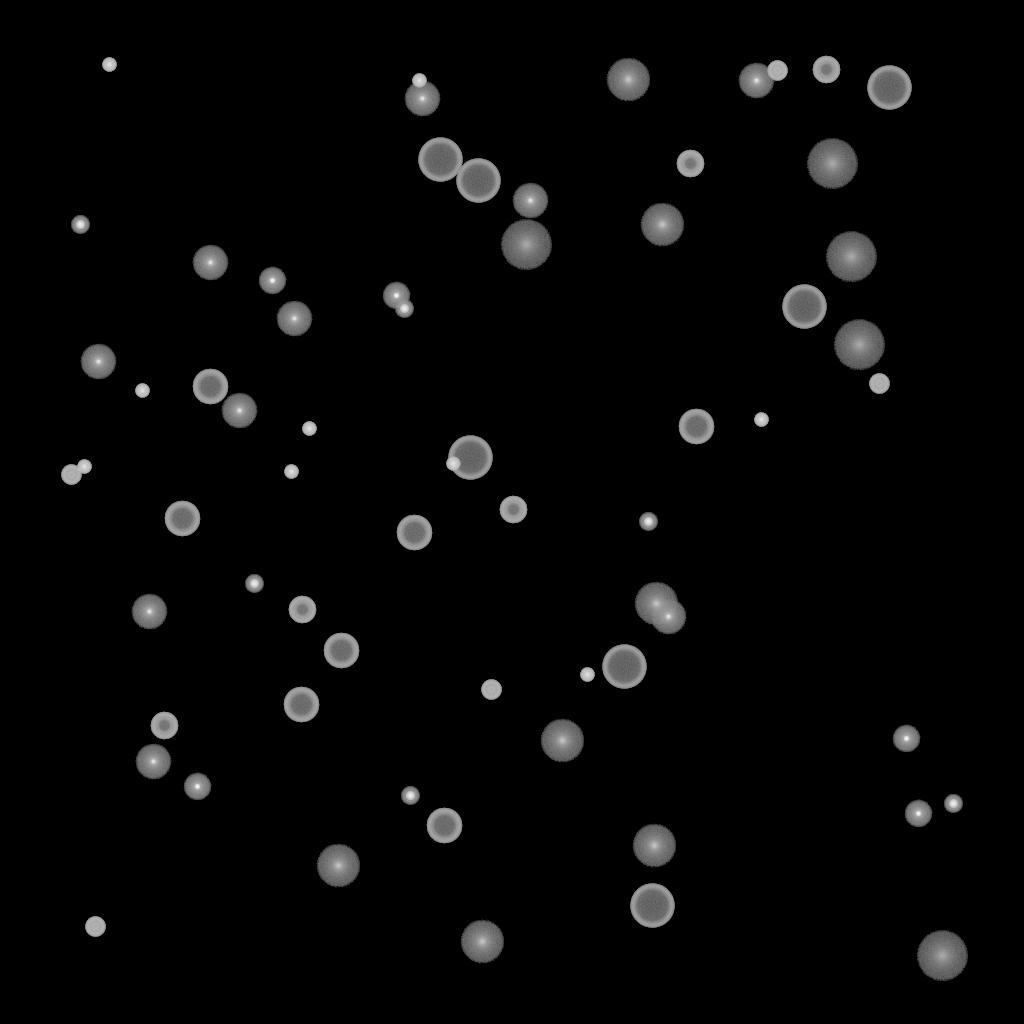depth:-10: (382, 282, 410, 310), (892, 725, 920, 753), (258, 267, 286, 295), (904, 800, 932, 828), (183, 773, 211, 801)
depth:-20: (401, 787, 419, 805), (71, 216, 89, 234), (639, 513, 657, 531), (395, 300, 413, 318), (944, 795, 962, 813), (245, 575, 263, 593)
depth:-30: (284, 465, 298, 479), (302, 422, 316, 436), (412, 74, 426, 88), (135, 384, 149, 398), (77, 460, 91, 474), (102, 58, 116, 72), (446, 457, 460, 471), (754, 413, 768, 427), (580, 668, 594, 682)
depth:-40: (85, 917, 105, 937), (869, 374, 889, 394), (767, 61, 787, 81), (61, 465, 81, 485), (481, 680, 501, 700)
depth:-50: (676, 150, 704, 178), (812, 56, 840, 84), (499, 496, 527, 524), (288, 596, 316, 624), (150, 712, 178, 740)
depth:-60: (323, 633, 359, 669), (283, 687, 319, 723), (678, 409, 714, 445), (396, 515, 432, 551), (426, 808, 462, 844), (192, 369, 228, 405), (164, 501, 200, 537)
depth:-70: (782, 285, 826, 329), (418, 138, 462, 182), (456, 159, 500, 203), (630, 884, 674, 928), (602, 645, 646, 689), (867, 66, 911, 110), (448, 436, 492, 480)
depth:0: (192, 245, 228, 281), (404, 81, 440, 117), (276, 301, 312, 337), (80, 344, 116, 380), (135, 744, 171, 780), (650, 599, 686, 635), (221, 393, 257, 429), (512, 183, 548, 219), (131, 594, 167, 630), (738, 63, 774, 99)
depth:10: (634, 582, 678, 626), (540, 719, 584, 763), (632, 824, 676, 868), (460, 920, 504, 964), (640, 203, 684, 247), (316, 844, 360, 888), (606, 58, 650, 102)
depth:20: (806, 139, 858, 189), (916, 931, 968, 981), (500, 220, 552, 270), (833, 320, 885, 370), (825, 232, 877, 282)
